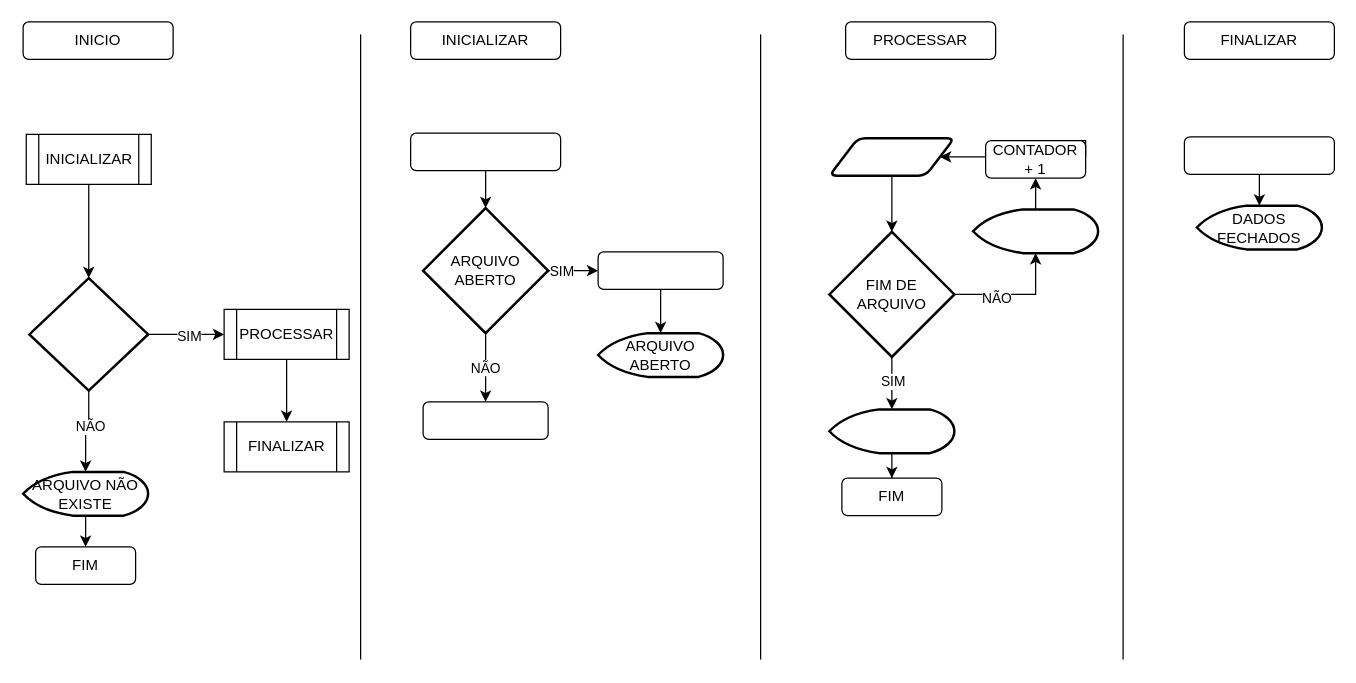
Some shapes in this 1356 by 683 pixel diagram are drawn without their labels. Each missing label, with the centre of its shape:
ABRIR DADOS: (485,151)
CONTADOR: (891,431)
DADOS: (891,156)
FECHAR DADOS: (1258,155)
LINHA: (1035,231)
VA_ARQUIVO = FALSE: (485,420)
VA_ARQUIVO = TRUE: (660,270)
VAR_ARQUIVO_EXISTE: (88,333)
